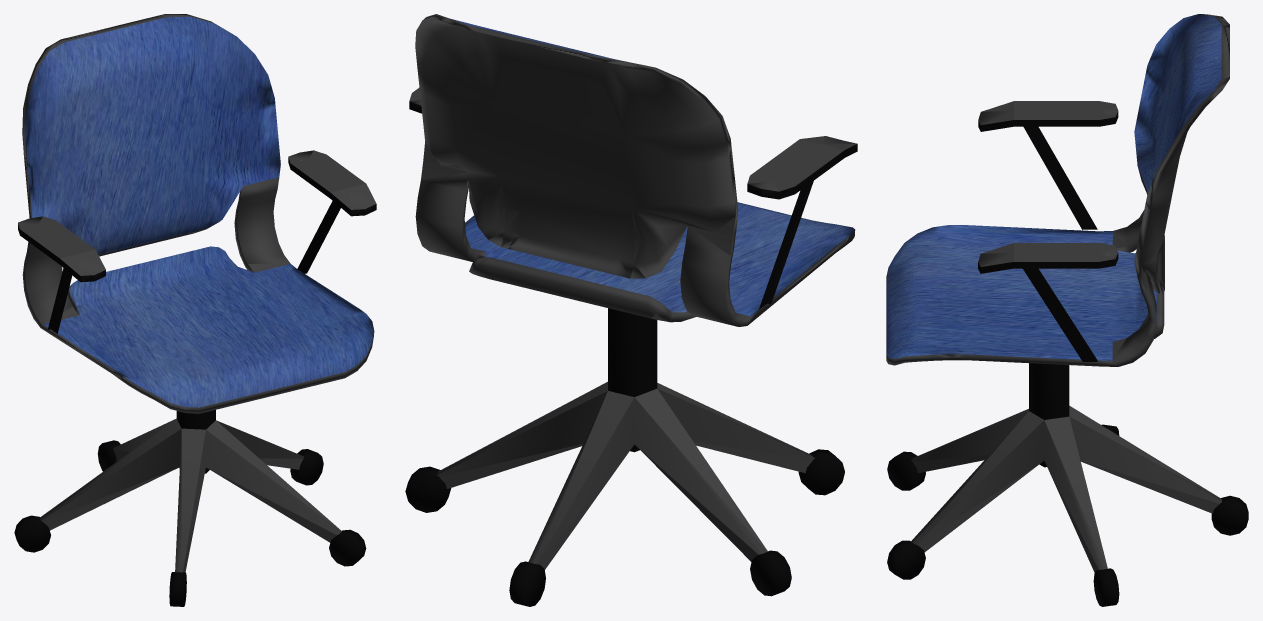
File: officeChair.glb
The picture shows the model from 3 angles, left to right: view 1: azimuth 30°, elevation 25°; view 2: azimuth 150°, elevation 25°; view 3: azimuth 270°, elevation 25°; orthographic projection. The views are drawn at different scales.
Visible parts, largest first — view 1: officeChair; view 2: officeChair; view 3: officeChair.
Part boxes in pixels (x1,y1,x2,y2): officeChair: (14,14,376,606); officeChair: (405,14,857,606); officeChair: (886,14,1248,606).
Bounding box in the file's own units: 0.6262 × 0.8734 × 0.5967.
3 materials, 1 textured.
